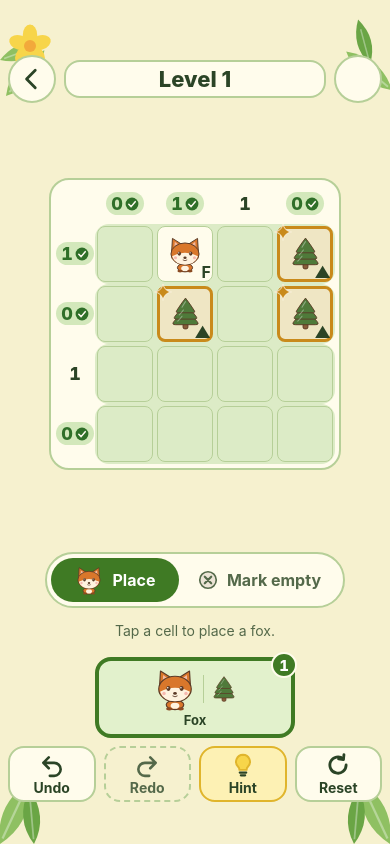
Test case: hints on the puzzle screen › a wrong-but-legal placement shows the contradiction and "last workable board" restores a consistent board
The width and height of the screenshot is (390, 844).
Earlier steps of the test are not shown.
Click the radio button with test id "tool-empty" at (259, 580), box [197,569,321,591]
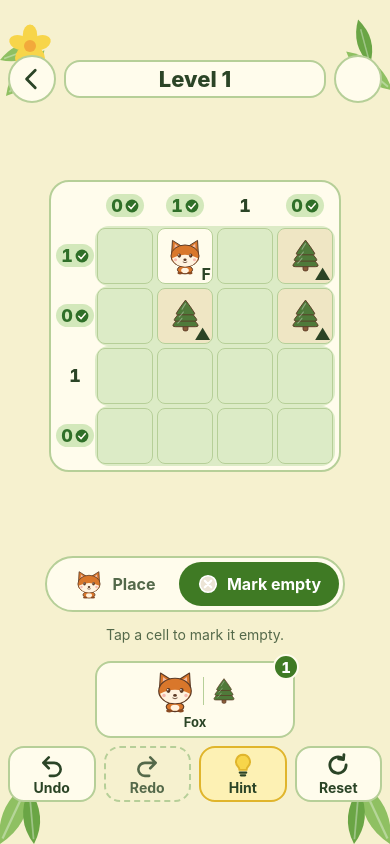
Click the button named "Row 4, column 1: unmarked" at (125, 436), box [95,406,155,466]
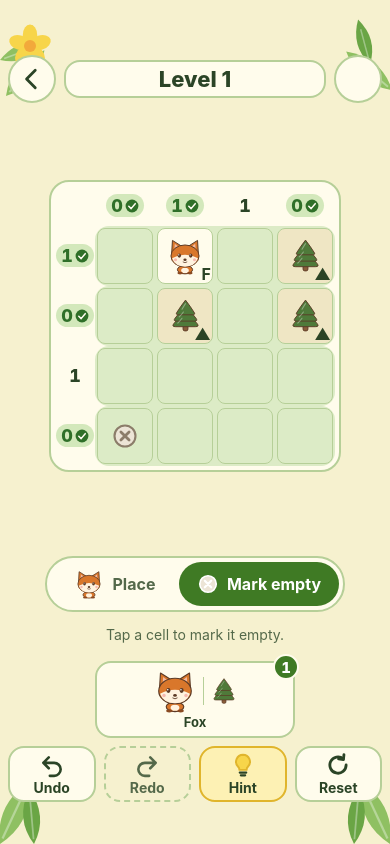
Click the button with test id "action-hint" at (243, 774), box [199,746,286,802]
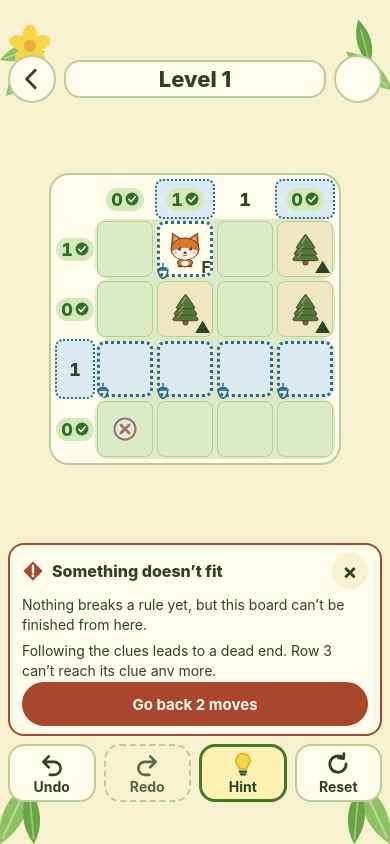
Now the heading "Something doesn’t fit" is shown, box [52,561,223,581]
Now the text "can’t be finished from here" is shown, box [22,596,348,633]
Now the element with test id "^cell-\\d+-hint$" is shown, box [154,262,172,279]
Click the button with test id "hint-action-rewind" at (195, 704), box [22,682,368,726]
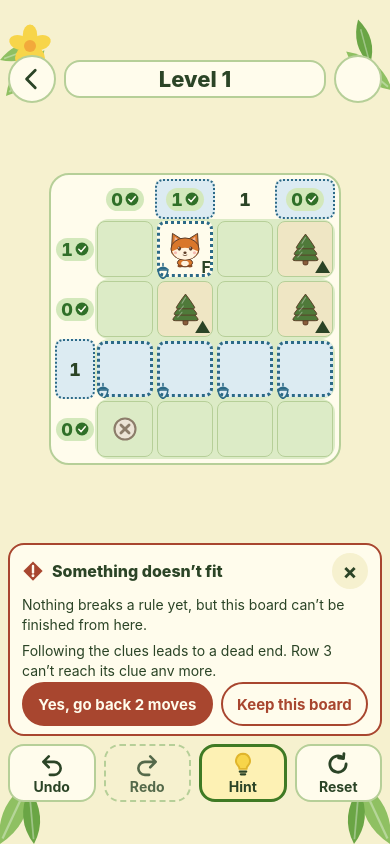
Click the button with test id "hint-action-confirm-rewind" at (117, 704), box [22,682,213,726]
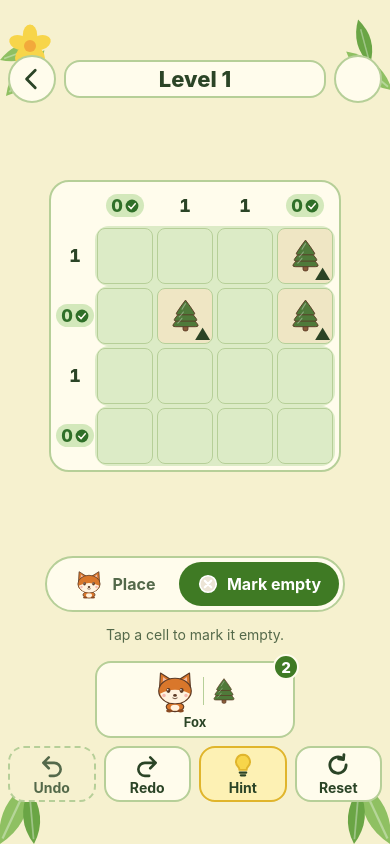
Now the element with test id "hint-panel" is gone
Now the button "Redo" is enabled, box [104,746,191,802]
Click the button with test id "action-hint" at (243, 774), box [199,746,286,802]
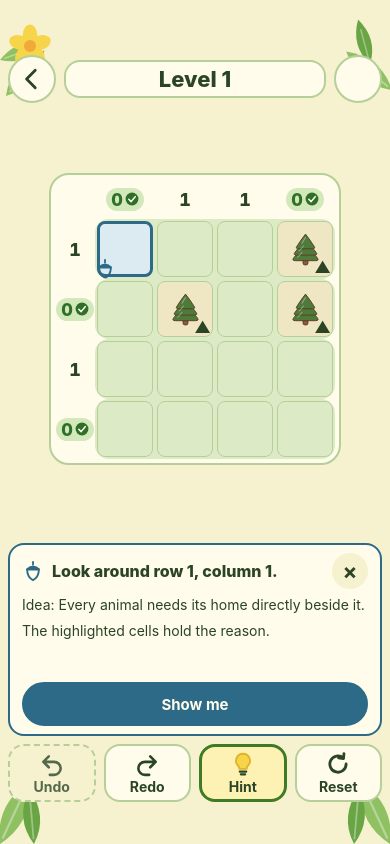
Now the text "Idea: Every animal needs its home directly beside it." is shown, box [22,595,368,615]
